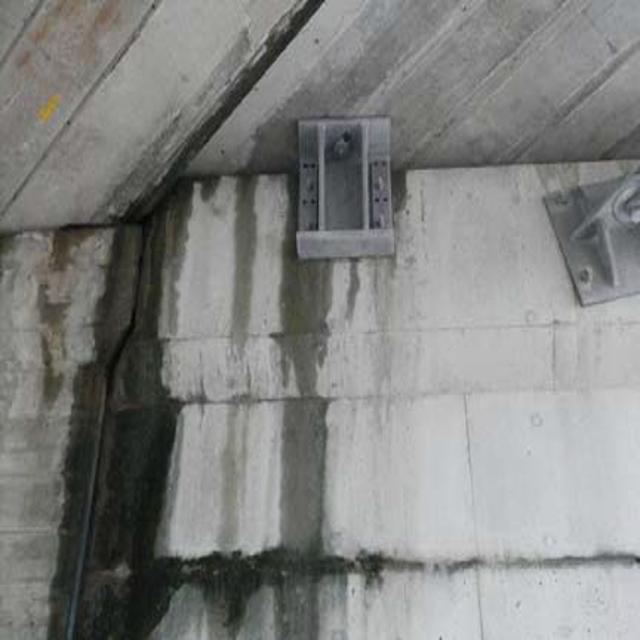leakage: (63, 137, 341, 640)
